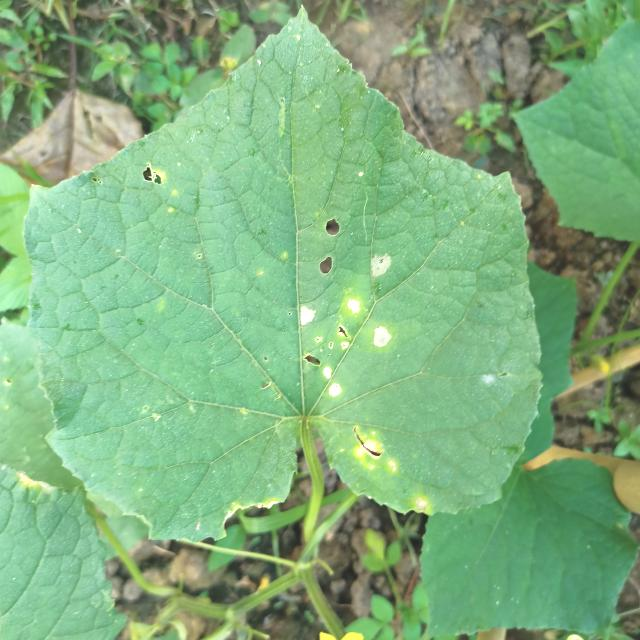disease_cucumber: (293, 245, 403, 404)
